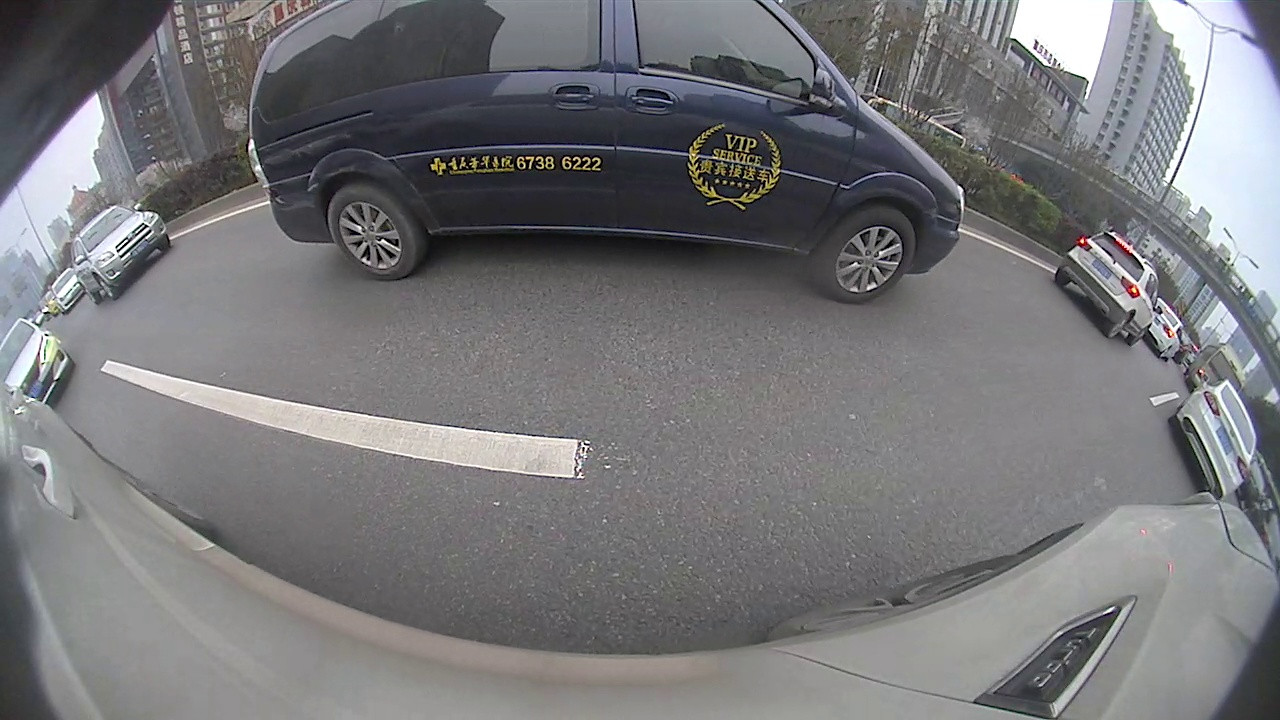car: (246, 3, 963, 304), (1054, 229, 1164, 349), (1168, 377, 1259, 500), (71, 200, 173, 306)
front: (817, 205, 917, 301)
rear: (328, 183, 420, 279), (1105, 312, 1135, 336)
